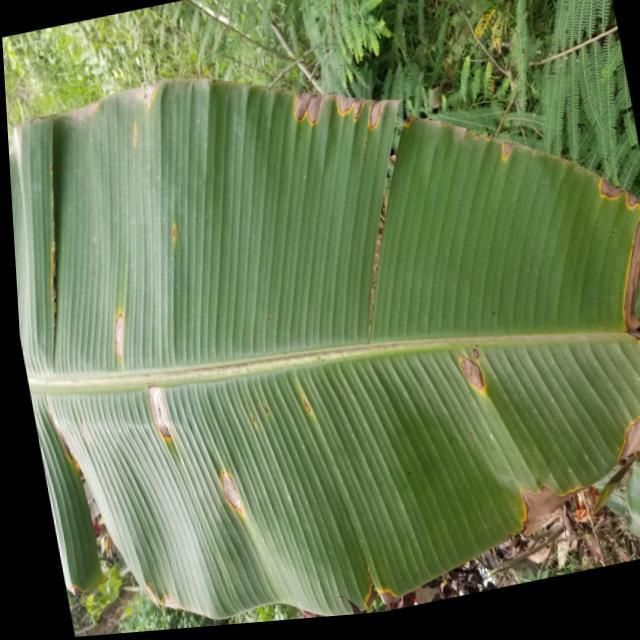Early_rust: (11, 56, 640, 591)
